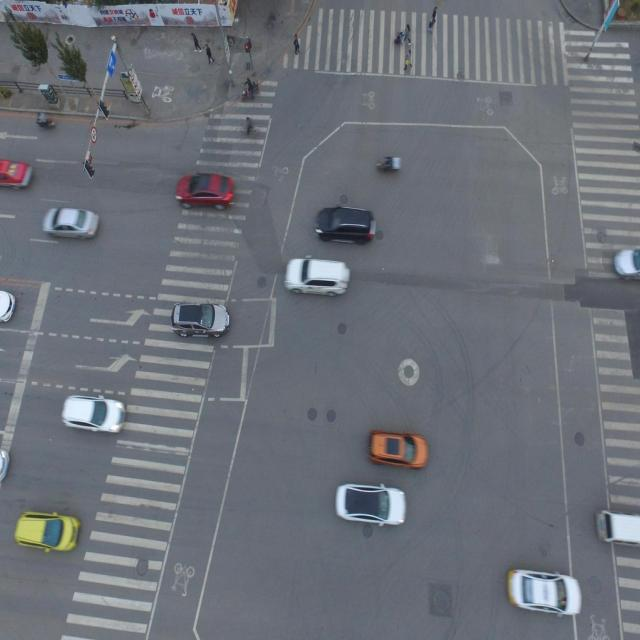p3rson: (190, 31, 201, 54), (204, 44, 214, 68), (402, 49, 412, 73), (402, 23, 412, 44), (293, 33, 300, 56), (247, 116, 254, 138), (431, 6, 438, 26)
